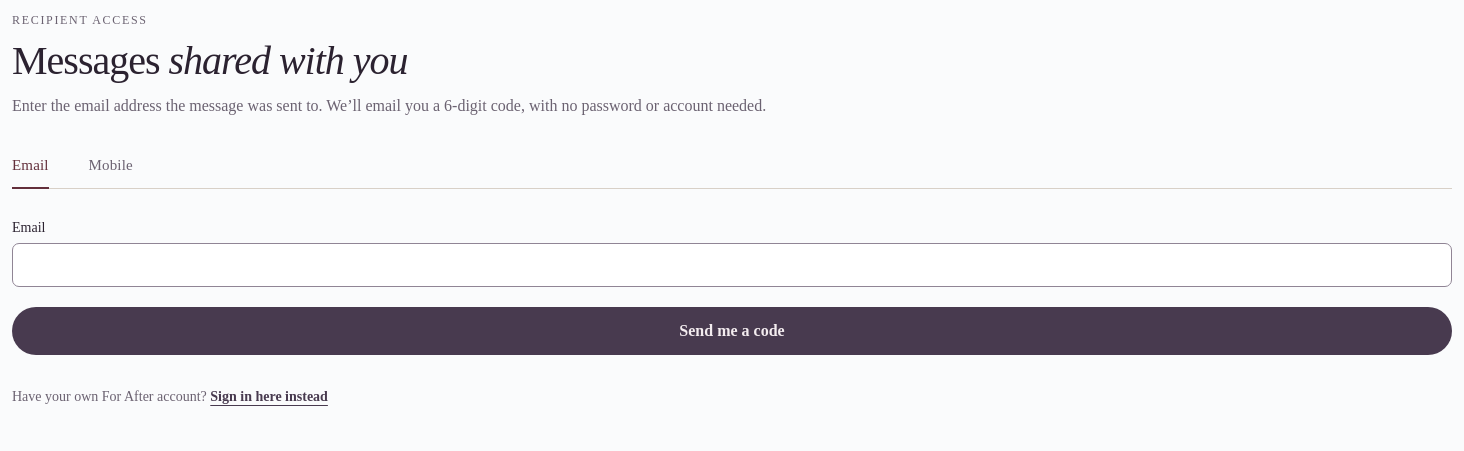
it: Recipient sign-in (FE-21) › shows the API’s generic message, then a single accessible code field
Click the button "Send me a code" at coordinates (732, 330), box [12,306,1452,354]
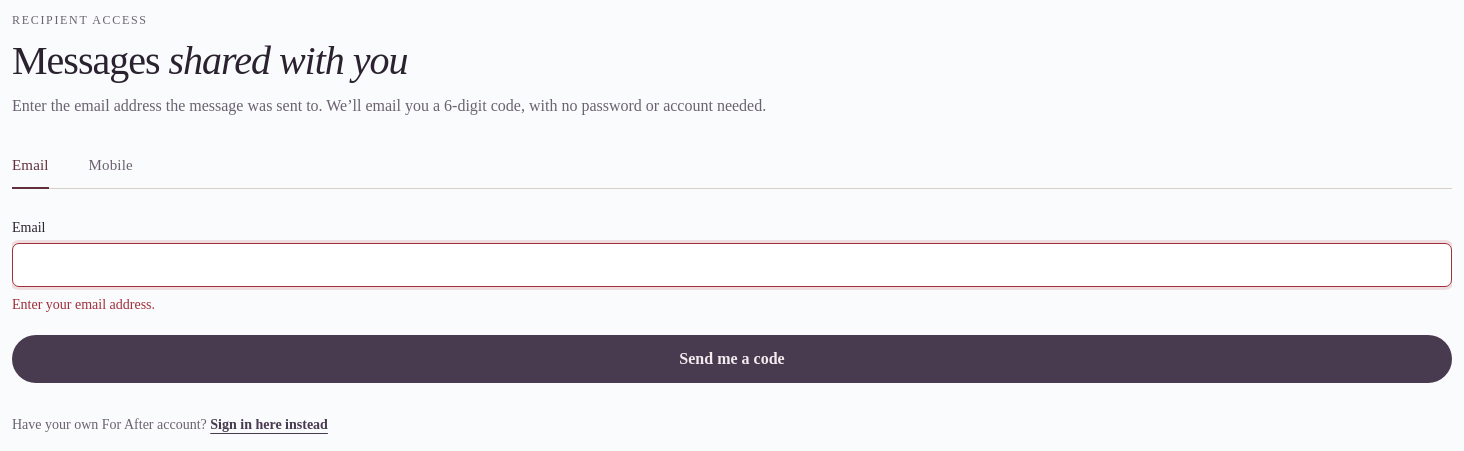
Now the text "Enter your email address." is shown, box [12,296,155,312]
Type "sofia@example.com" into the field labelled "Email" at coordinates (732, 264), box [12,242,1452,286]
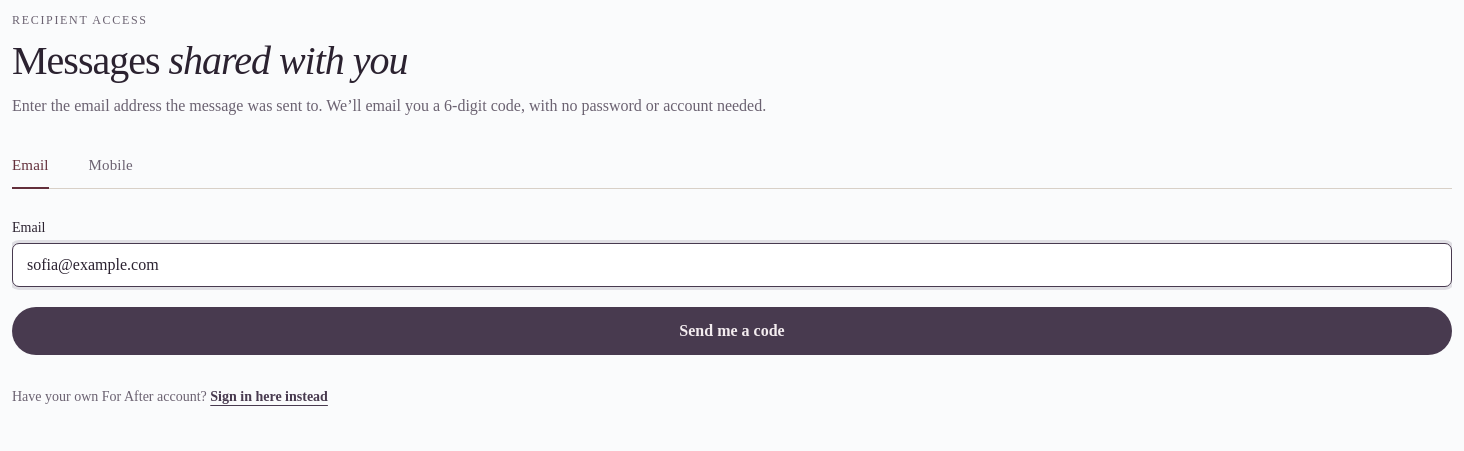
Click the button "Send me a code" at coordinates (732, 330), box [12,306,1452,354]
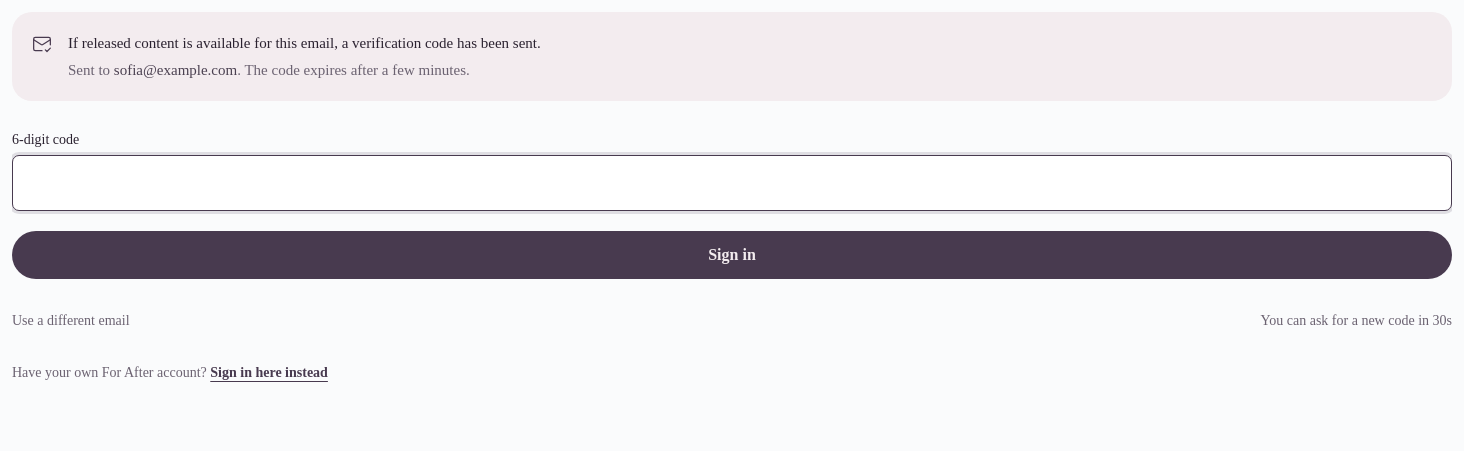
Now the text "If released content is available for this email, a verification code has been sent." is shown, box [68,35,541,51]
Now the field labelled "6-digit code" is empty, box [12,155,1452,211]
